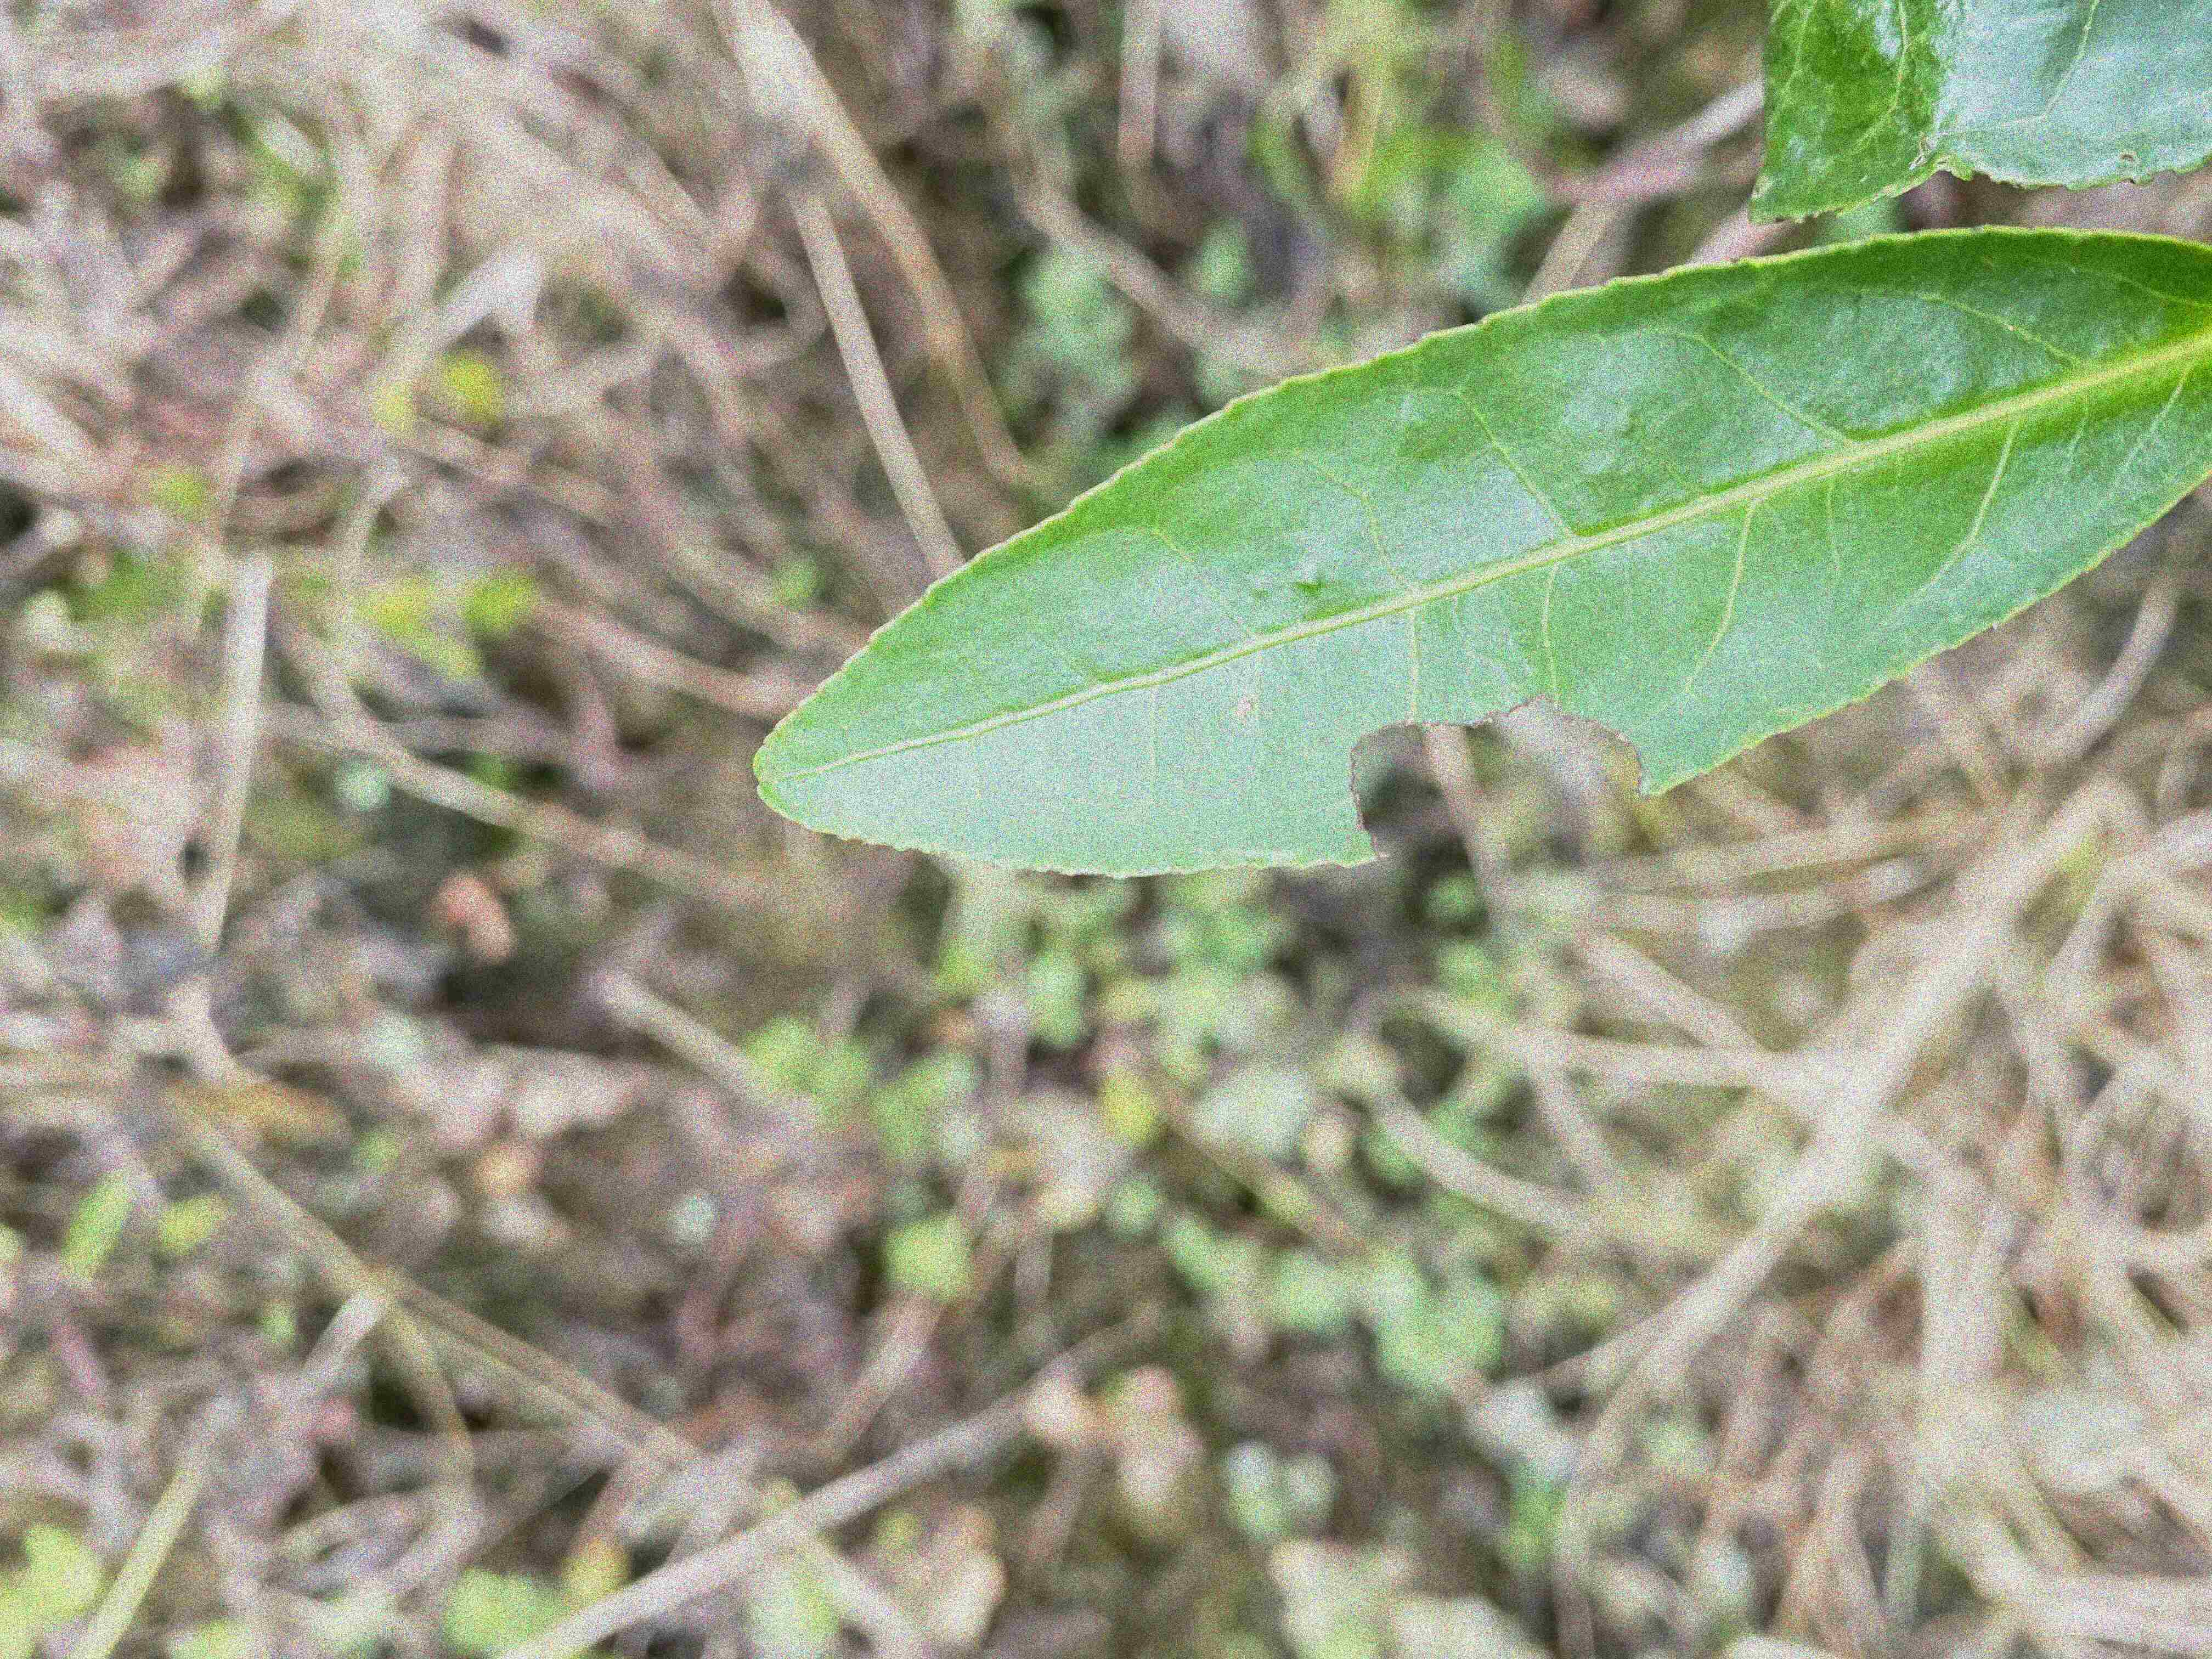chihuo_low: (751, 227, 2207, 880)
